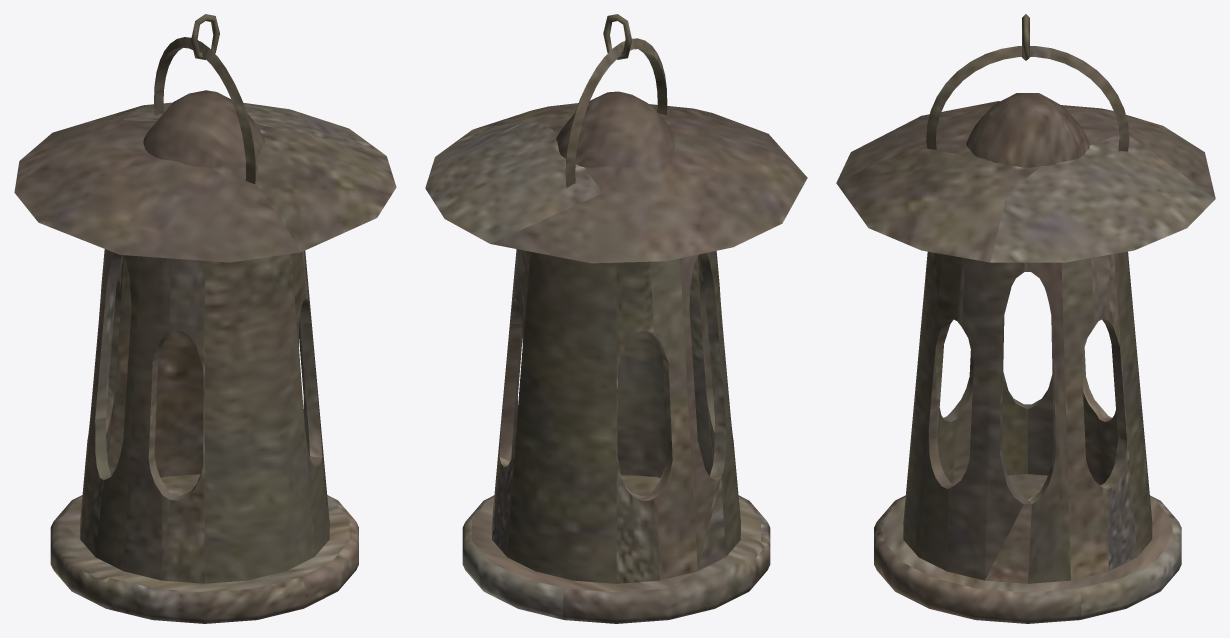
File: lamp4.FBX
3 views of the same model, side by side, from view 1: azimuth 30°, elevation 25°; view 2: azimuth 150°, elevation 25°; view 3: azimuth 270°, elevation 25° (orthographic).
Parts seen in each view (by area): view 1: lamp4; view 2: lamp4; view 3: lamp4.
Boxes of the visible parts, left/top/right/bottom form: lamp4: left=14, top=14, right=396, bottom=623; lamp4: left=425, top=14, right=807, bottom=623; lamp4: left=836, top=14, right=1215, bottom=623.
Size of the model in its own units: 32.77 by 52.11 by 32.77.
